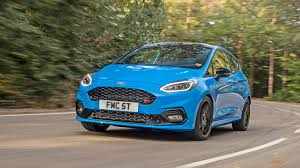number_plate: (95, 99, 145, 116)
